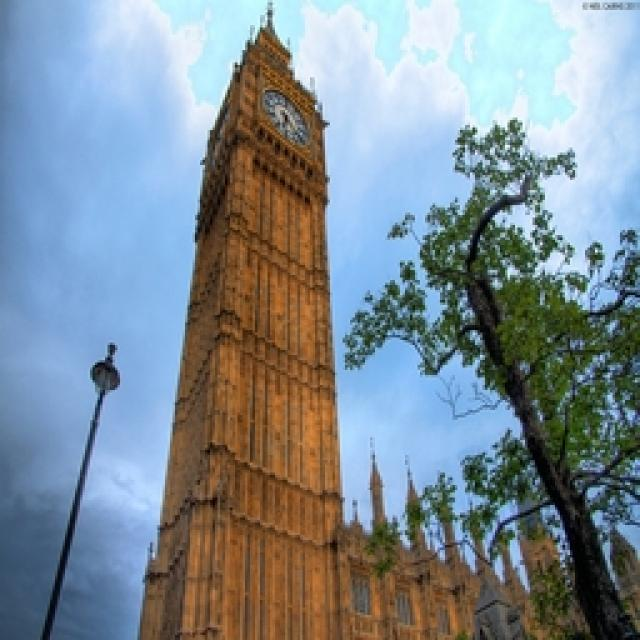Abbey: (126, 1, 361, 639)
